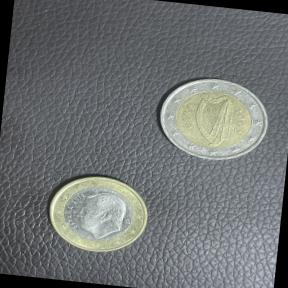1 Euro-B: (40, 166, 158, 262)
2 Euro-B: (145, 67, 277, 171)
